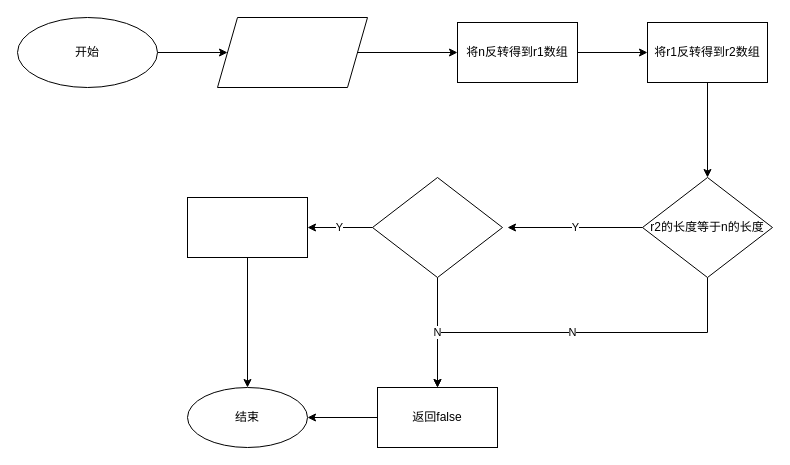
Image size: 790x465. Some labels were removed from this diagram. Each missing label, with the centre of its shape:
r2的各个元素 是否与n的各位相等: the point at 437,227
输入一个整数 放至字符串n中: the point at 292,52
返回true: the point at 247,227
